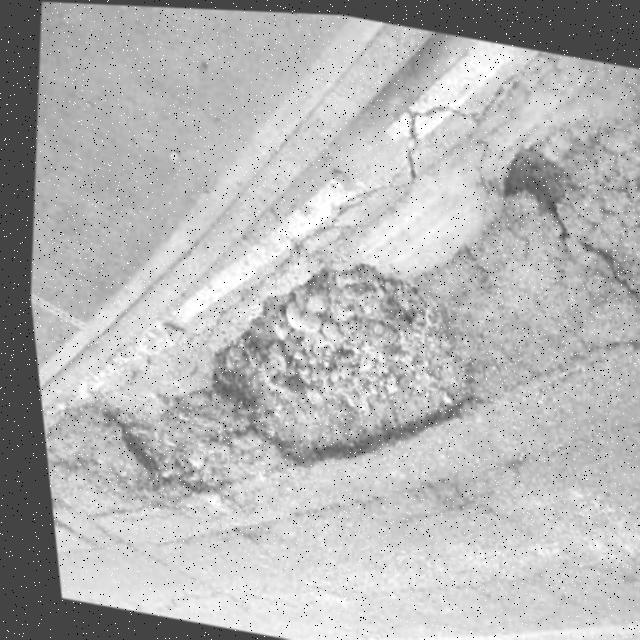pothole: (178, 230, 498, 503), (80, 392, 228, 510), (487, 139, 573, 217)
